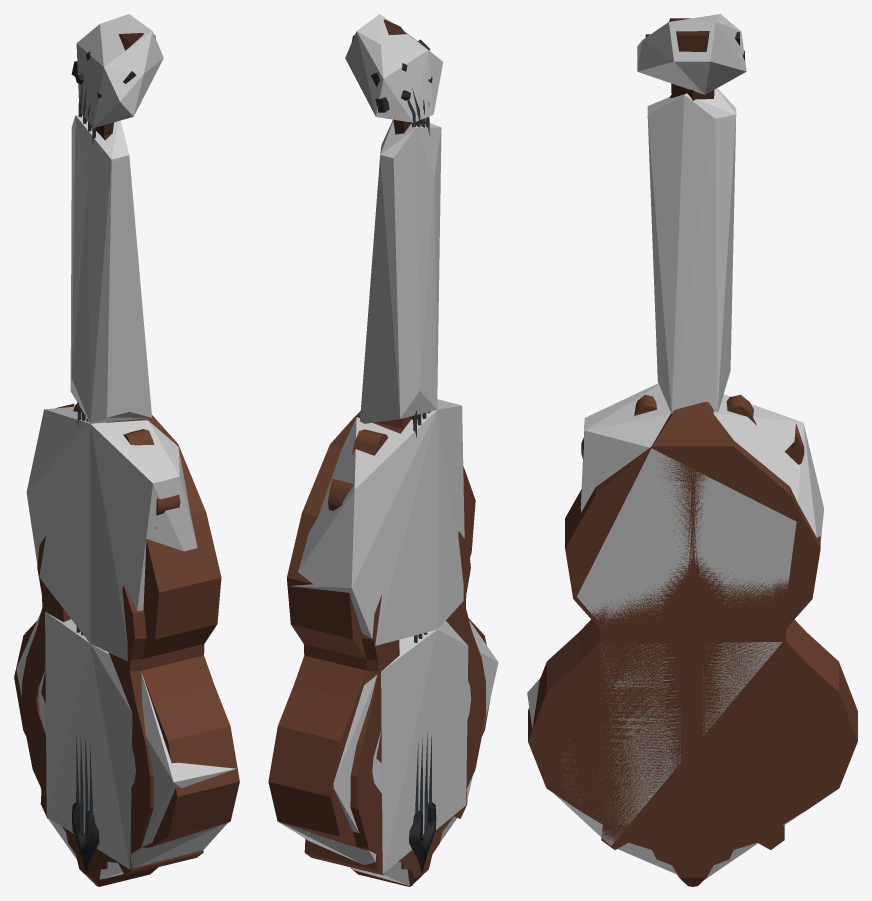
Rendered from SM_Item_Instrument_Guitar_01.fbx.
The picture shows the model from 3 angles, left to right: view 1: azimuth 30°, elevation 25°; view 2: azimuth 150°, elevation 25°; view 3: azimuth 270°, elevation 25°; orthographic projection.
Parts seen in each view (by area): view 1: SM_Item_Instrument_Guitar_01_ConvexHulls, SM_Item_Instrument_Guitar_01; view 2: SM_Item_Instrument_Guitar_01_ConvexHulls, SM_Item_Instrument_Guitar_01; view 3: SM_Item_Instrument_Guitar_01, SM_Item_Instrument_Guitar_01_ConvexHulls.
Part boxes in pixels (x1,y1,x2,y2): SM_Item_Instrument_Guitar_01_ConvexHulls: (16, 14, 236, 879); SM_Item_Instrument_Guitar_01: (14, 33, 239, 886); SM_Item_Instrument_Guitar_01_ConvexHulls: (280, 14, 498, 885); SM_Item_Instrument_Guitar_01: (268, 19, 489, 886); SM_Item_Instrument_Guitar_01: (528, 18, 857, 886); SM_Item_Instrument_Guitar_01_ConvexHulls: (527, 14, 823, 879).
Size of the model in its own units: 12.52 by 45.39 by 130.
Materials: 2 (1 with a texture image).
